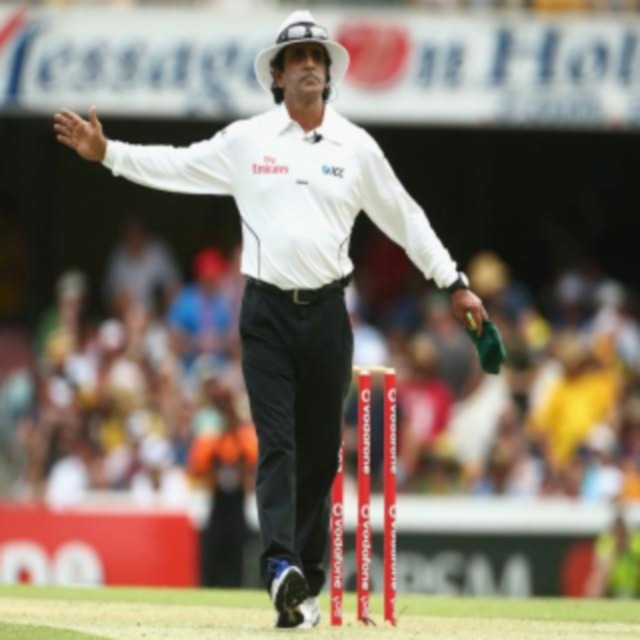No_Ball: (48, 6, 504, 640)
